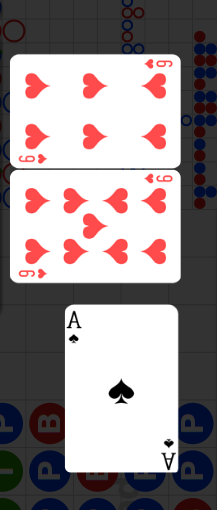6H: (142, 58, 174, 71)
9H: (18, 267, 49, 279)
AS: (158, 435, 176, 470)
